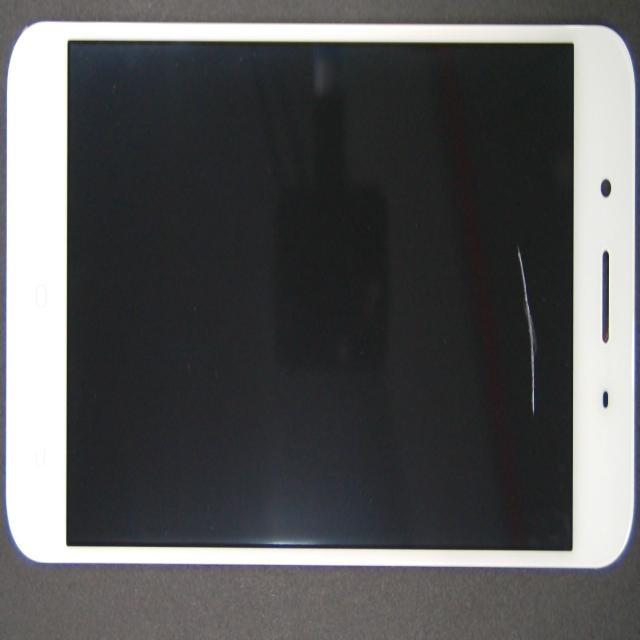scratch: (257, 52, 640, 390)
